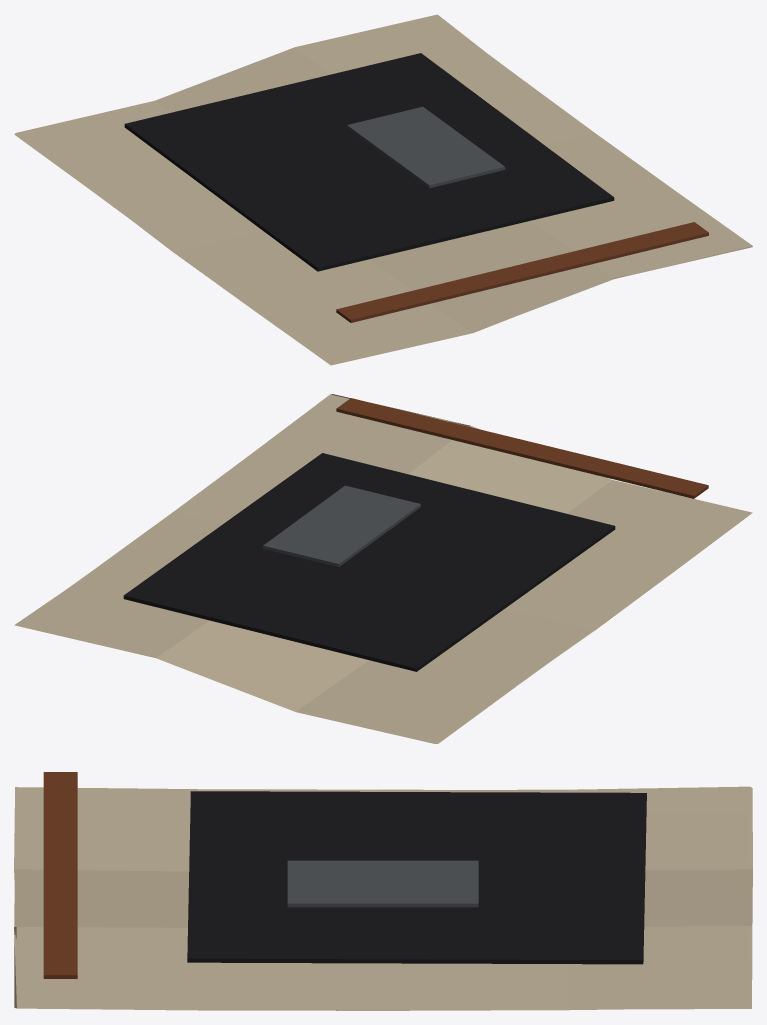
File: personal_photo_a.glb
3 views of the same model, one above another, from view 1: azimuth 30°, elevation 25°; view 2: azimuth 150°, elevation 25°; view 3: azimuth 270°, elevation 25° (orthographic). The views are drawn at different scales.
Visible parts, largest first — view 1: personal_photo_a; view 2: personal_photo_a; view 3: personal_photo_a.
Boxes of the visible parts, bbox=[...] form: personal_photo_a: bbox=[14, 14, 752, 365]; personal_photo_a: bbox=[14, 394, 752, 743]; personal_photo_a: bbox=[14, 772, 752, 1010].
Size of the model in its own units: 0.1007 by 0.0104 by 0.1306.
